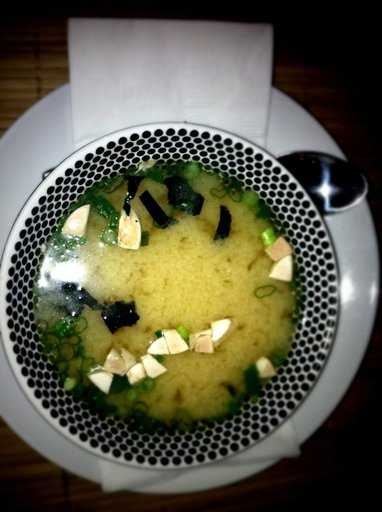soup: (34, 157, 270, 435)
